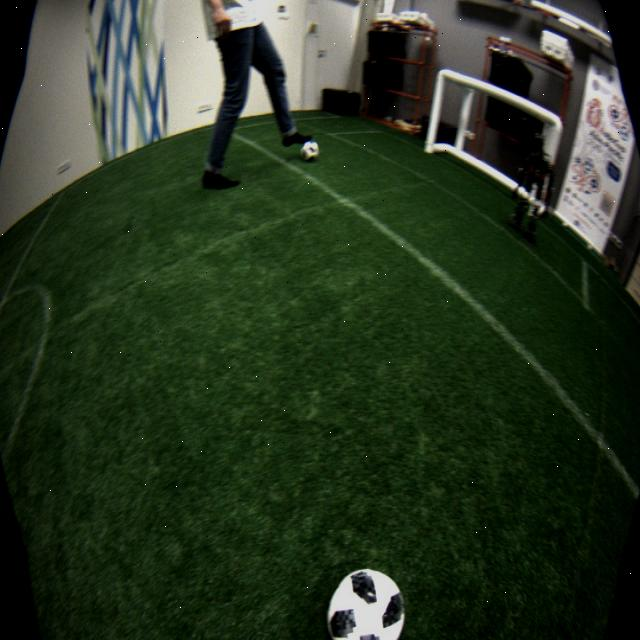ball: (327, 566, 405, 640), (301, 141, 319, 164)
goalpost: (530, 114, 564, 220), (423, 69, 448, 156)
